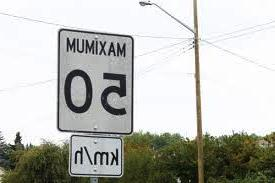speed limit sign: (59, 28, 133, 133)
